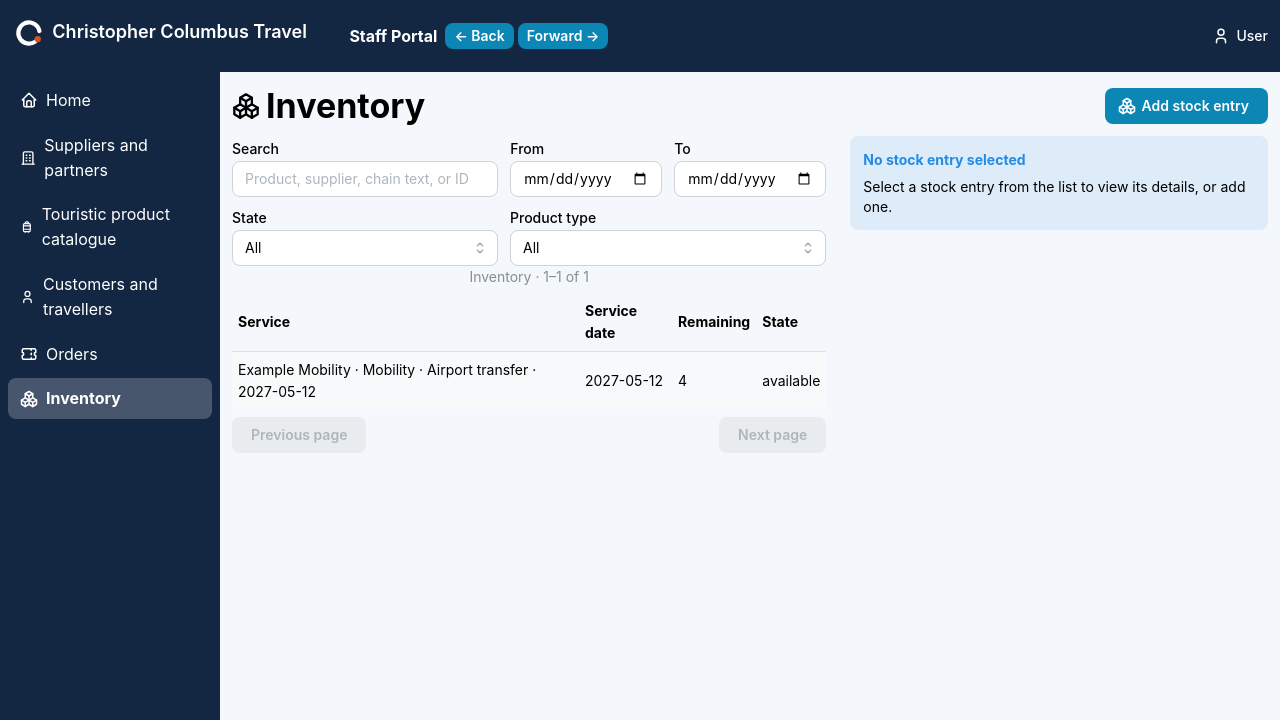
StockItemsRoute › sends search to the API instead of filtering the current page
The image size is (1280, 720).
Expected: the text "Example Mobility · Mobility · Airport transfer · 2027-05-12" is shown, [232,351,579,409]
Type "rail" into the field labelled "Search" at (365, 179), box [232,161,498,197]
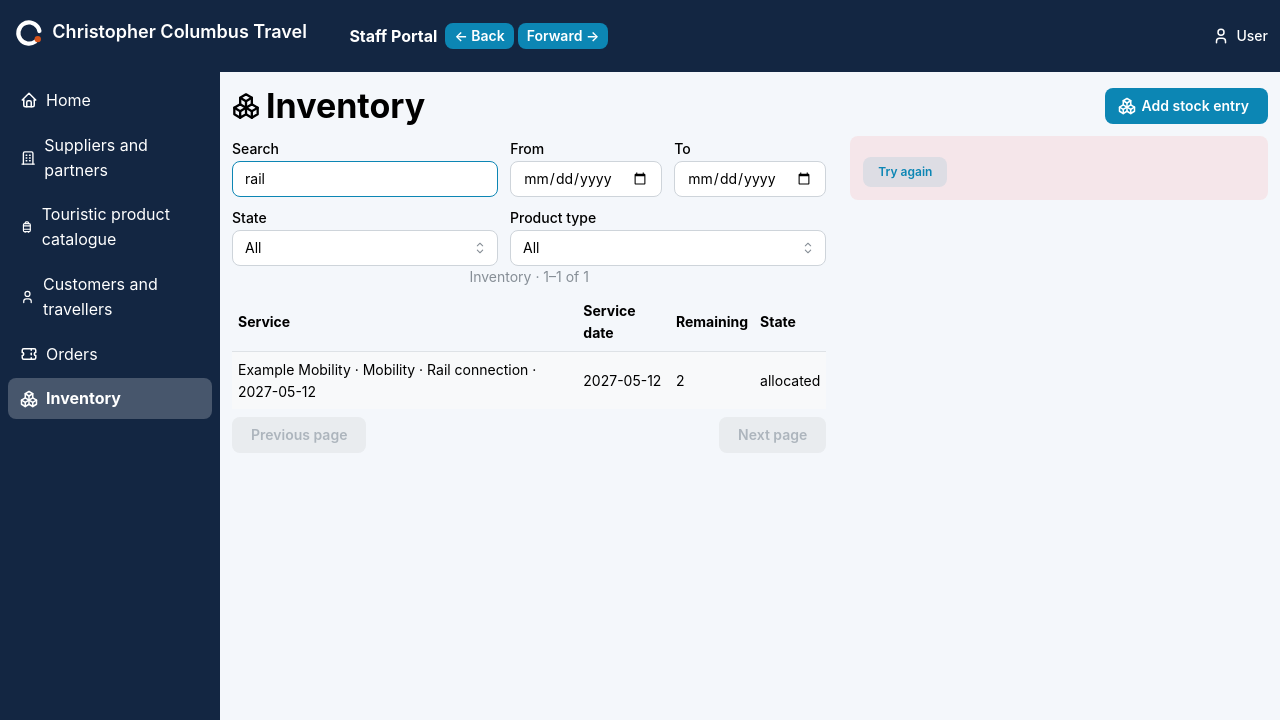
Result: the text "Example Mobility · Mobility · Rail connection · 2027-05-12" is shown at [232,351,577,409]
